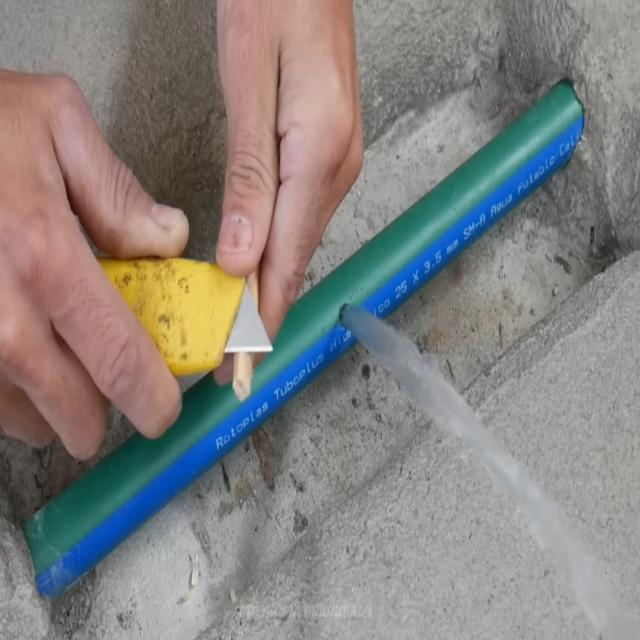leak: (340, 304, 640, 639)
